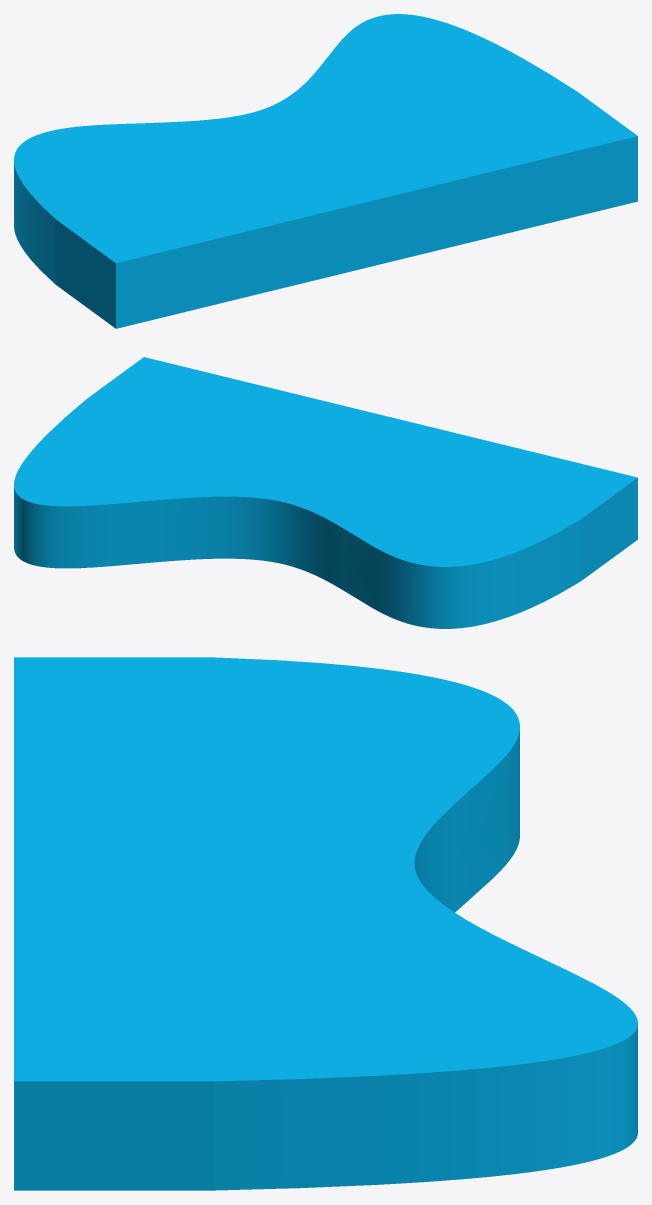
Rendered from spline.gltf.
The picture shows the model from 3 angles, top to bottom: view 1: azimuth 30°, elevation 25°; view 2: azimuth 150°, elevation 25°; view 3: azimuth 270°, elevation 25°; orthographic projection. The views are drawn at different scales.
Parts seen in each view (by area): view 1: Gövde; view 2: Gövde; view 3: Gövde.
Part boxes in pixels (x1,y1,x2,y2): Gövde: [14, 14, 637, 328]; Gövde: [14, 357, 637, 628]; Gövde: [14, 657, 637, 1190].
Bounding box in the file's own units: 0.05 × 0.006 × 0.0311.
